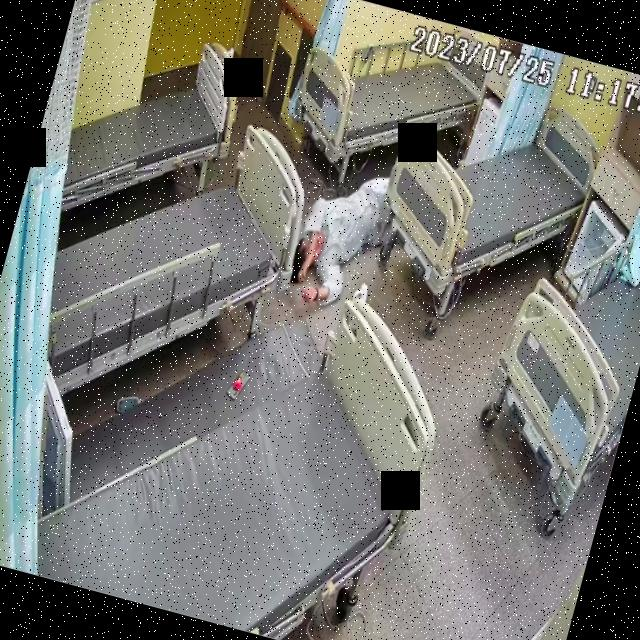bed: (23, 241, 454, 640), (18, 88, 320, 432), (468, 195, 640, 513), (368, 78, 604, 304), (50, 12, 254, 243), (288, 8, 492, 192)
fall: (280, 122, 412, 316)
patient: (280, 122, 413, 313)
